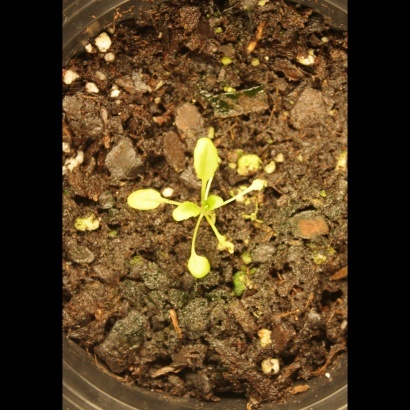leaf: (188, 130, 222, 186), (117, 177, 164, 216), (201, 191, 236, 229), (183, 251, 218, 287), (169, 192, 199, 228), (209, 231, 244, 257)
